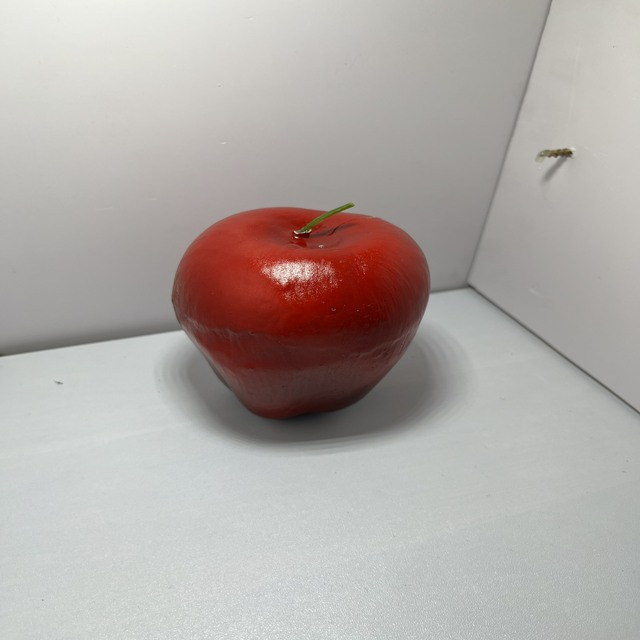Tao: (169, 197, 437, 430)
